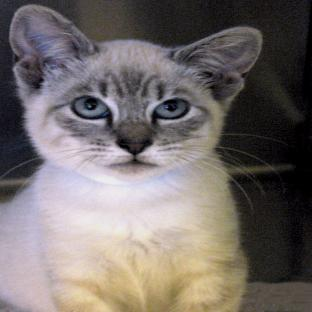Animal: (0, 5, 262, 312)
